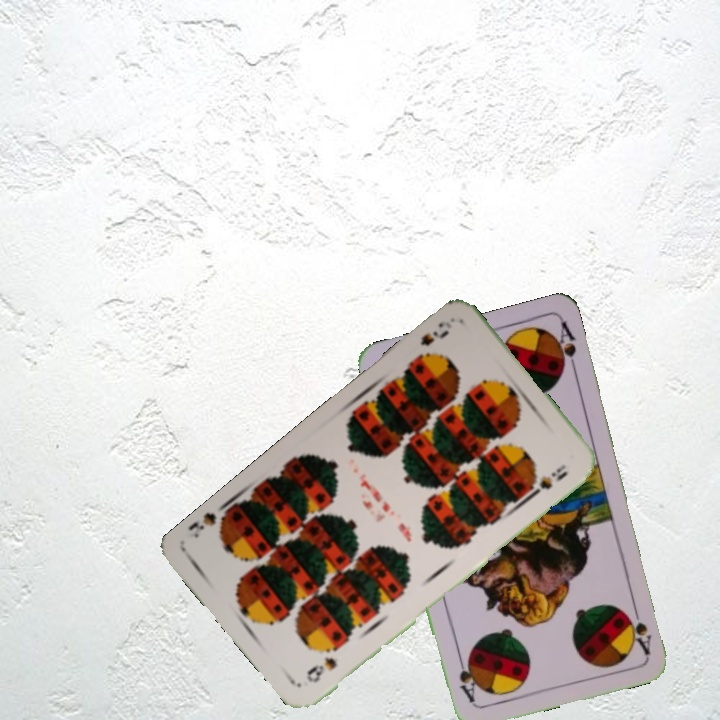S9: (409, 325, 452, 364), (302, 652, 340, 686)
SA: (624, 598, 655, 657)
